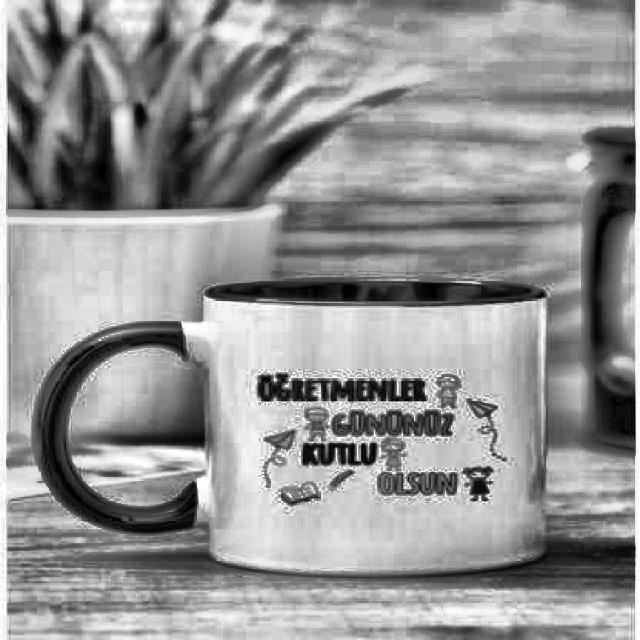Mug: (28, 277, 555, 578)
